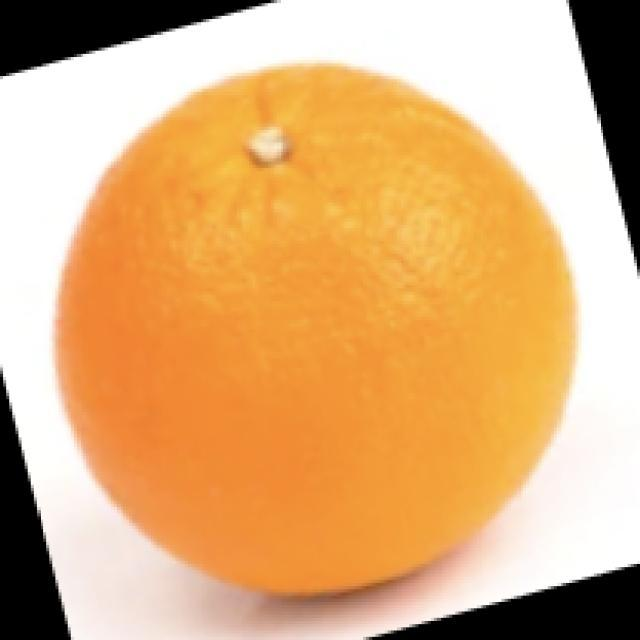Orange: (52, 61, 579, 599)
